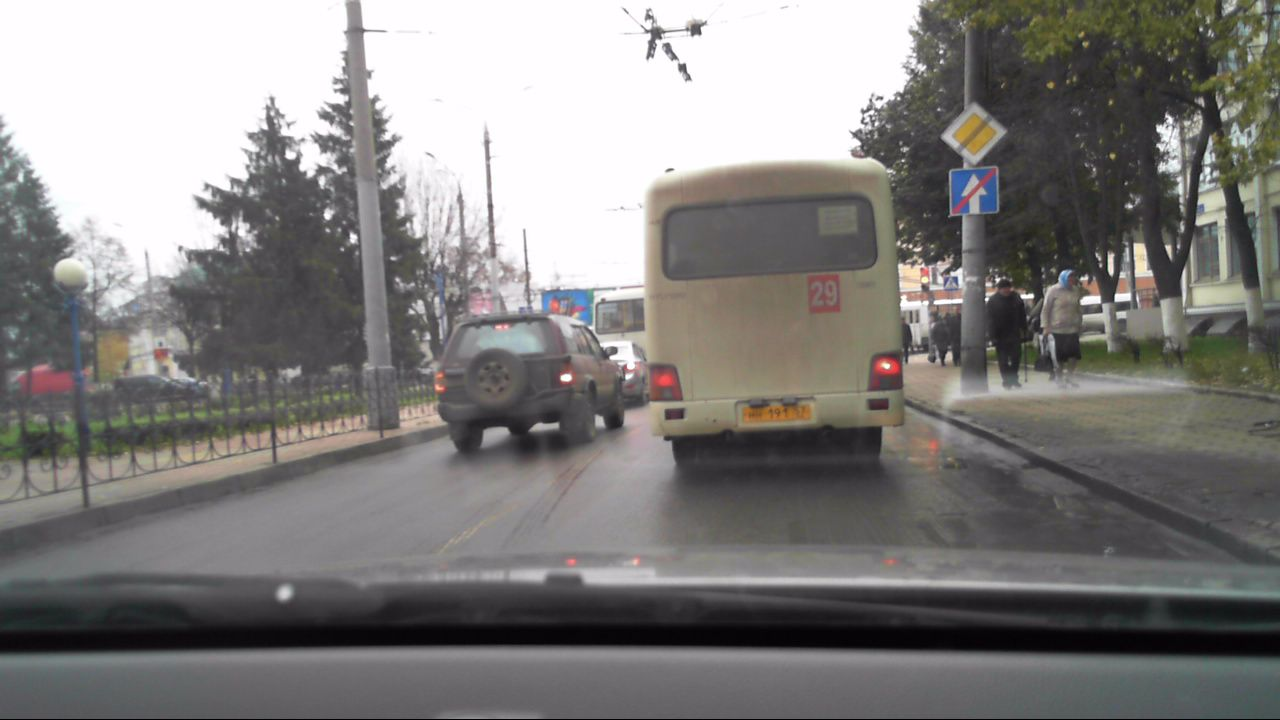main road: (940, 102, 1001, 163)
